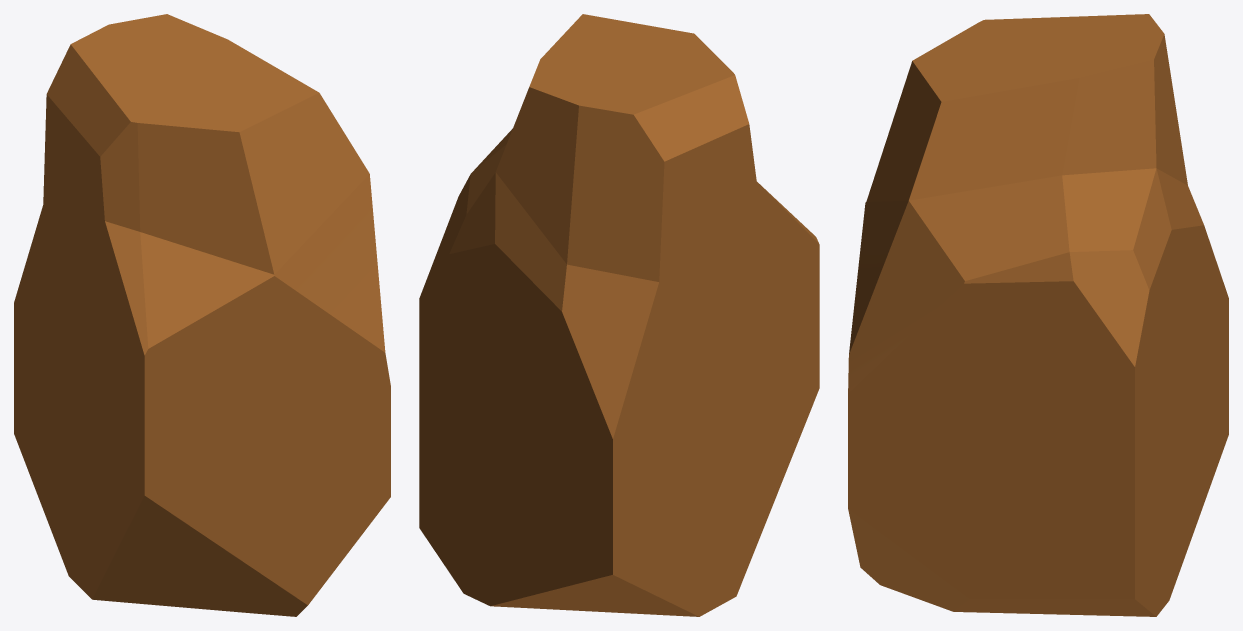
Rendered from HardRock_31.fbx.
3 renders of one model, left to right at view 1: azimuth 30°, elevation 25°; view 2: azimuth 150°, elevation 25°; view 3: azimuth 270°, elevation 25°, orthographic. The views are drawn at different scales.
Visible parts, largest first — view 1: HardRock_31; view 2: HardRock_31; view 3: HardRock_31.
Boxes of the visible parts, bbox=[...] form: HardRock_31: bbox=[14, 14, 390, 616]; HardRock_31: bbox=[419, 14, 819, 616]; HardRock_31: bbox=[848, 14, 1228, 616].
Bounding box in the file's own units: 64.54 × 117 × 76.53.
